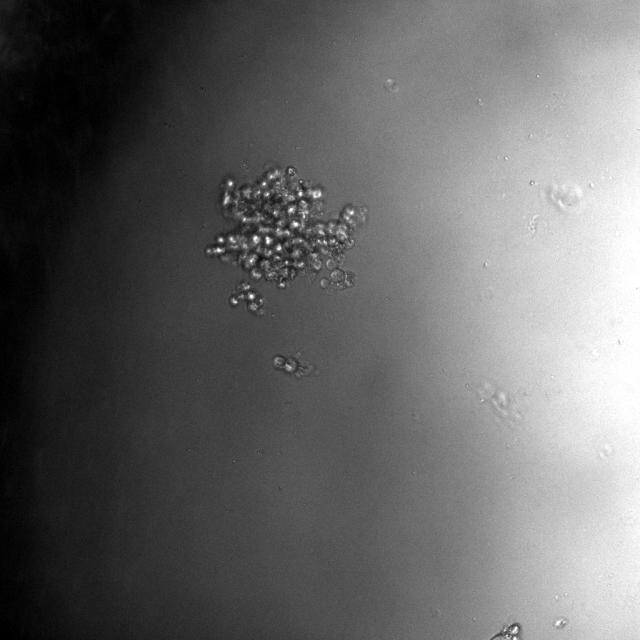organoid: (205, 167, 365, 289), (230, 282, 262, 314), (272, 354, 310, 376), (489, 622, 521, 639)
